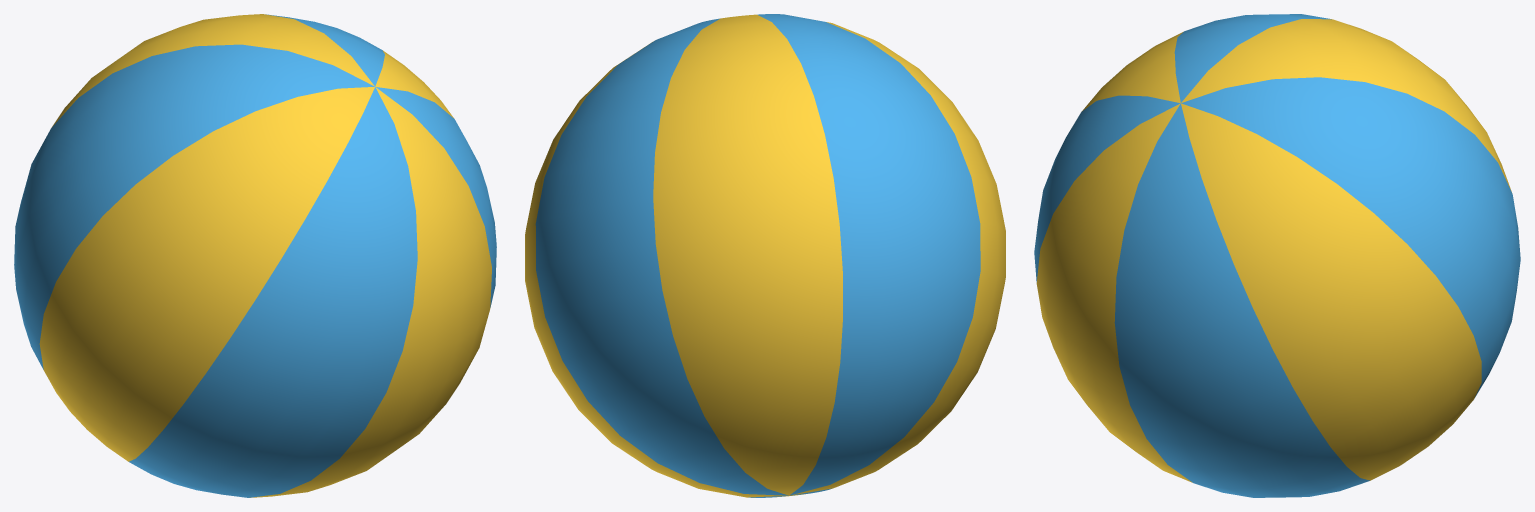
The model's file is brinquedo_bola_azul.glb.
3 renders of one model, left to right at view 1: azimuth 30°, elevation 25°; view 2: azimuth 150°, elevation 25°; view 3: azimuth 270°, elevation 25°, orthographic.
Parts seen in each view (by area): view 1: brinquedo_bola_azul; view 2: brinquedo_bola_azul; view 3: brinquedo_bola_azul.
Boxes of the visible parts, x1,y1,x2,y2 form: brinquedo_bola_azul: (14, 14, 496, 497); brinquedo_bola_azul: (525, 14, 1005, 497); brinquedo_bola_azul: (1034, 14, 1520, 497).
Size of the model in its own units: 0.2398 by 0.2398 by 0.2398.
Materials: 1 (1 with a texture image).
